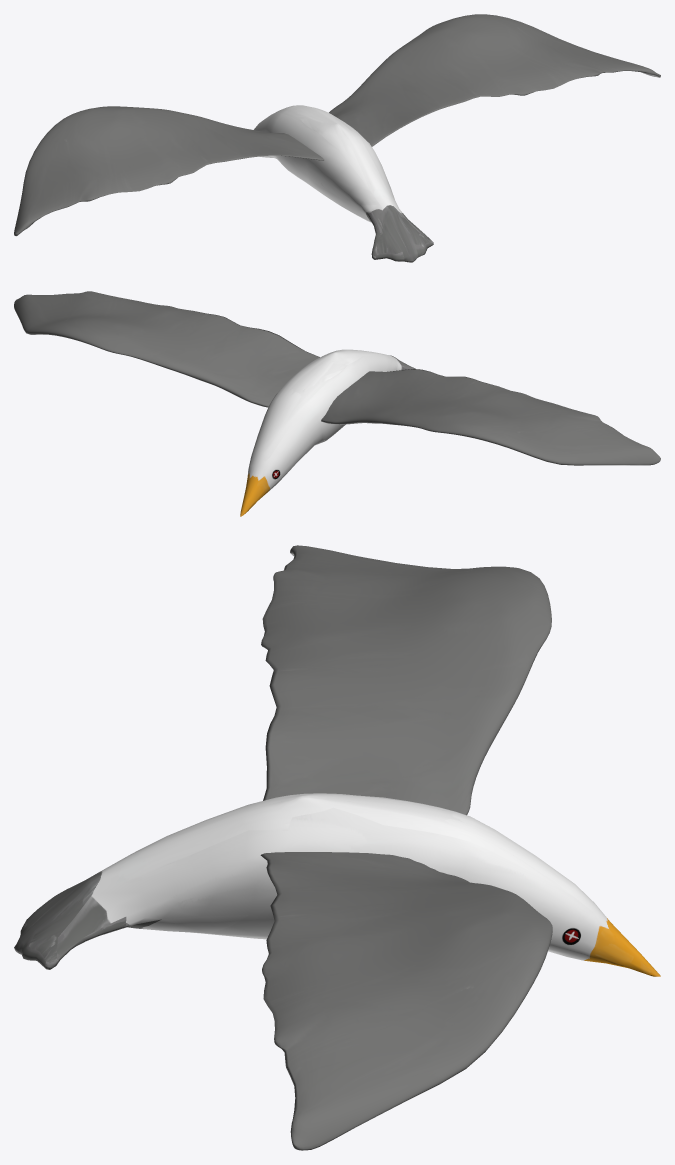
The model's file is Seagull.fbx.
The picture shows the model from 3 angles, top to bottom: view 1: azimuth 30°, elevation 25°; view 2: azimuth 150°, elevation 25°; view 3: azimuth 270°, elevation 25°; orthographic projection. The views are drawn at different scales.
Parts seen in each view (by area): view 1: polySurface2, polySurface1, Seagull_Body; view 2: polySurface1, polySurface2, Seagull_Body; view 3: polySurface2, polySurface1, Seagull_Body.
Boxes of the visible parts, left/top/right/bottom form: polySurface2: left=329, top=14, right=660, bottom=146; polySurface1: left=14, top=106, right=324, bottom=236; Seagull_Body: left=254, top=105, right=433, bottom=262; polySurface1: left=321, top=369, right=660, bottom=465; polySurface2: left=14, top=291, right=319, bottom=407; Seagull_Body: left=240, top=349, right=415, bottom=516; polySurface2: left=260, top=852, right=552, bottom=1150; polySurface1: left=261, top=545, right=551, bottom=815; Seagull_Body: left=14, top=793, right=660, bottom=976.
Bounding box in the file's own units: 4.03 × 0.6769 × 1.85.
2 materials, 2 textured.
